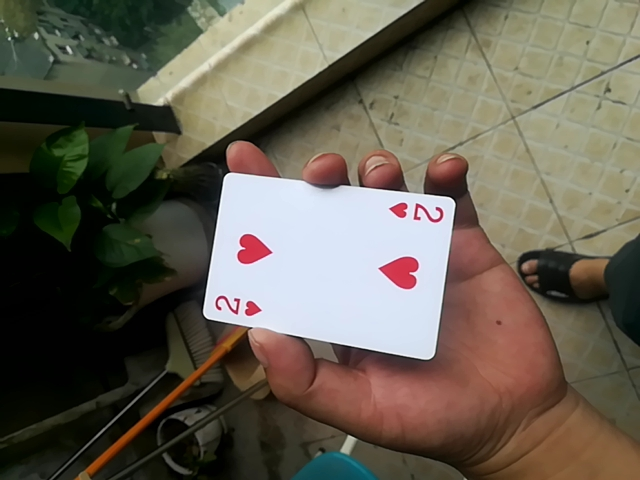hx 2: (198, 168, 453, 362)
